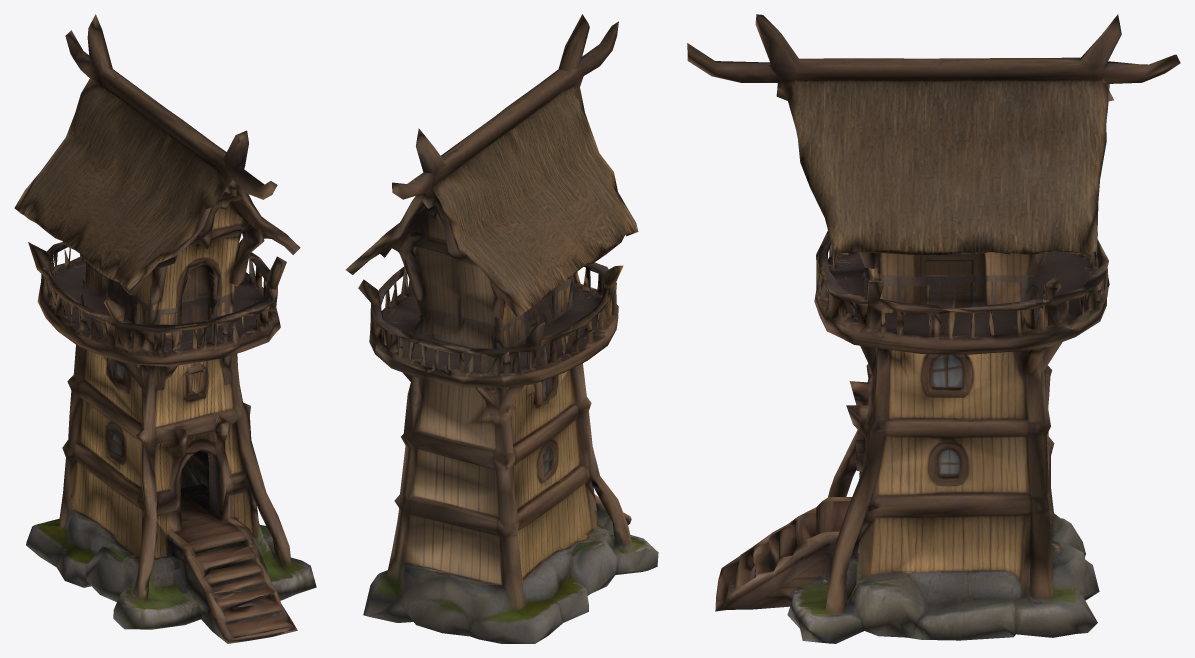
Rendered from Meshy_AI_Viking_RTS_Building_W_0901072511_texture.fbx.
3 views of the same model, side by side, from view 1: azimuth 30°, elevation 25°; view 2: azimuth 150°, elevation 25°; view 3: azimuth 270°, elevation 25° (orthographic). The views are drawn at different scales.
Parts seen in each view (by area): view 1: Mesh_0; view 2: Mesh_0; view 3: Mesh_0.
Part boxes in pixels (left/top/right/bottom): Mesh_0: left=14, top=14, right=316, bottom=643; Mesh_0: left=345, top=14, right=658, bottom=643; Mesh_0: left=687, top=14, right=1180, bottom=643.
Size of the model in its own units: 81.29 by 200 by 154.
Materials: 1 (1 with a texture image).
